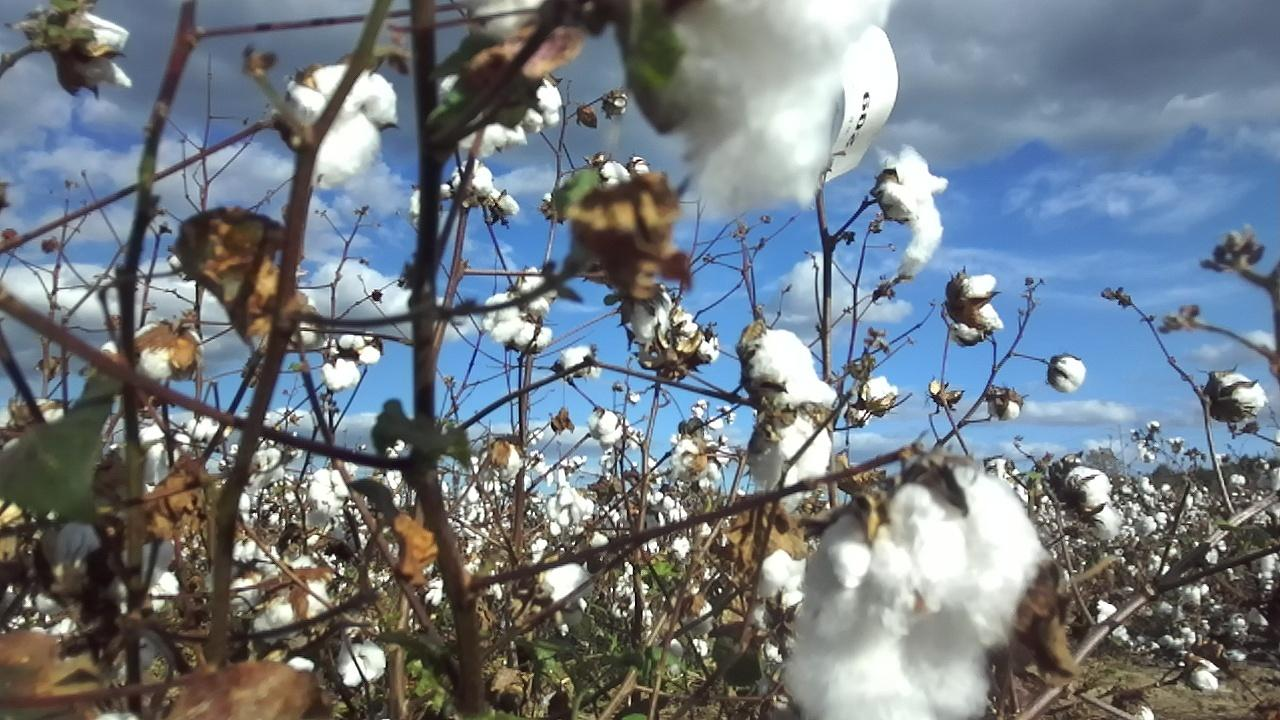cotton_ready: (649, 0, 890, 217), (888, 469, 1045, 670), (782, 610, 989, 720), (799, 519, 912, 643), (292, 64, 399, 190), (750, 327, 836, 483), (440, 72, 565, 157), (872, 147, 950, 277), (44, 517, 179, 574), (291, 627, 385, 687), (259, 554, 329, 632), (103, 324, 202, 379), (67, 14, 132, 90), (750, 549, 809, 632), (944, 274, 1005, 344), (499, 559, 589, 606), (1064, 467, 1120, 542), (474, 0, 551, 37), (1214, 375, 1267, 422), (628, 290, 672, 338)
